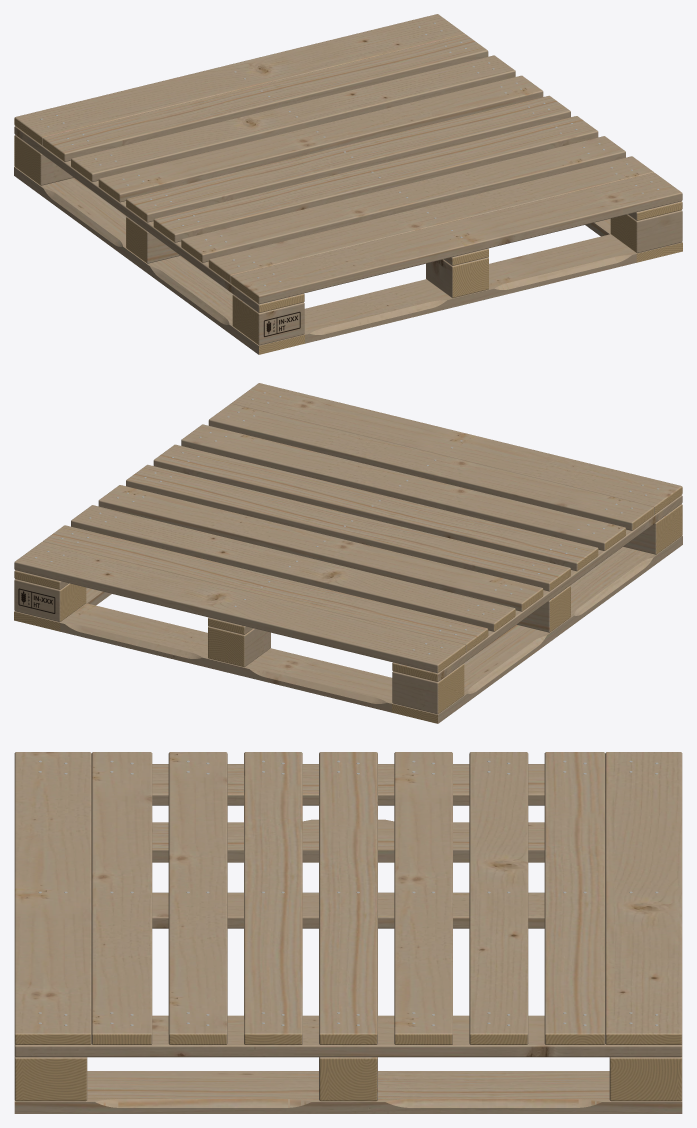
The model's file is pw08-pinewood-pallet-1100x1100-chamfered.glb.
3 renders of one model, top to bottom at view 1: azimuth 30°, elevation 25°; view 2: azimuth 150°, elevation 25°; view 3: azimuth 270°, elevation 25°, orthographic. The views are drawn at different scales.
Parts seen in each view (by area): view 1: pw08-pinewood-pallet-1100x1100-chamfered; view 2: pw08-pinewood-pallet-1100x1100-chamfered; view 3: pw08-pinewood-pallet-1100x1100-chamfered.
Part boxes in pixels (x1,y1,x2,y2): pw08-pinewood-pallet-1100x1100-chamfered: [14, 14, 682, 354]; pw08-pinewood-pallet-1100x1100-chamfered: [14, 383, 682, 723]; pw08-pinewood-pallet-1100x1100-chamfered: [14, 752, 682, 1113].
Bounding box in the file's own units: 1.1 × 0.1469 × 1.1.
4 materials, 3 textured.
